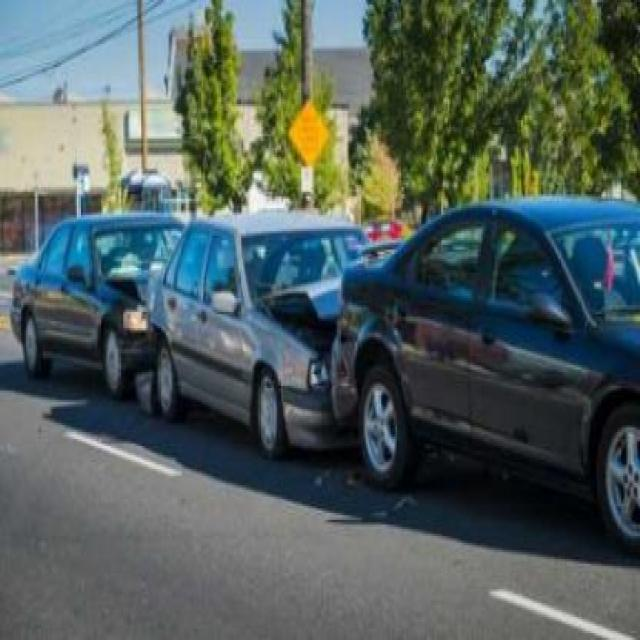accident: (152, 173, 640, 536), (0, 168, 338, 476)
